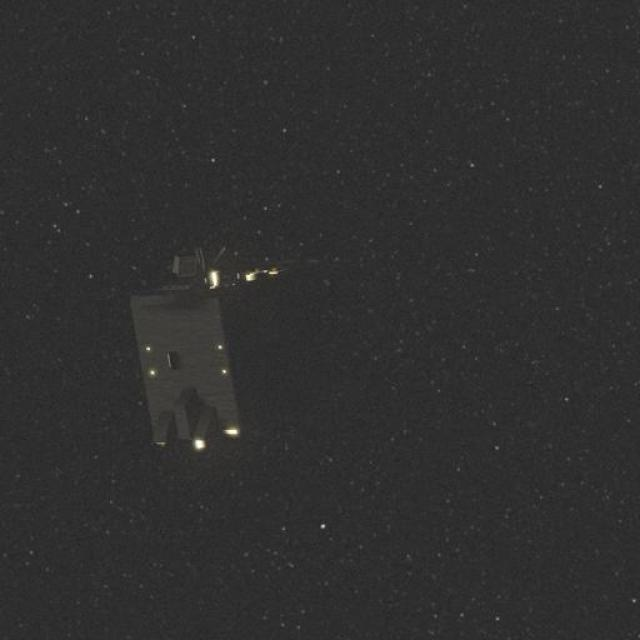proba_3_ocs: (119, 230, 299, 469)
